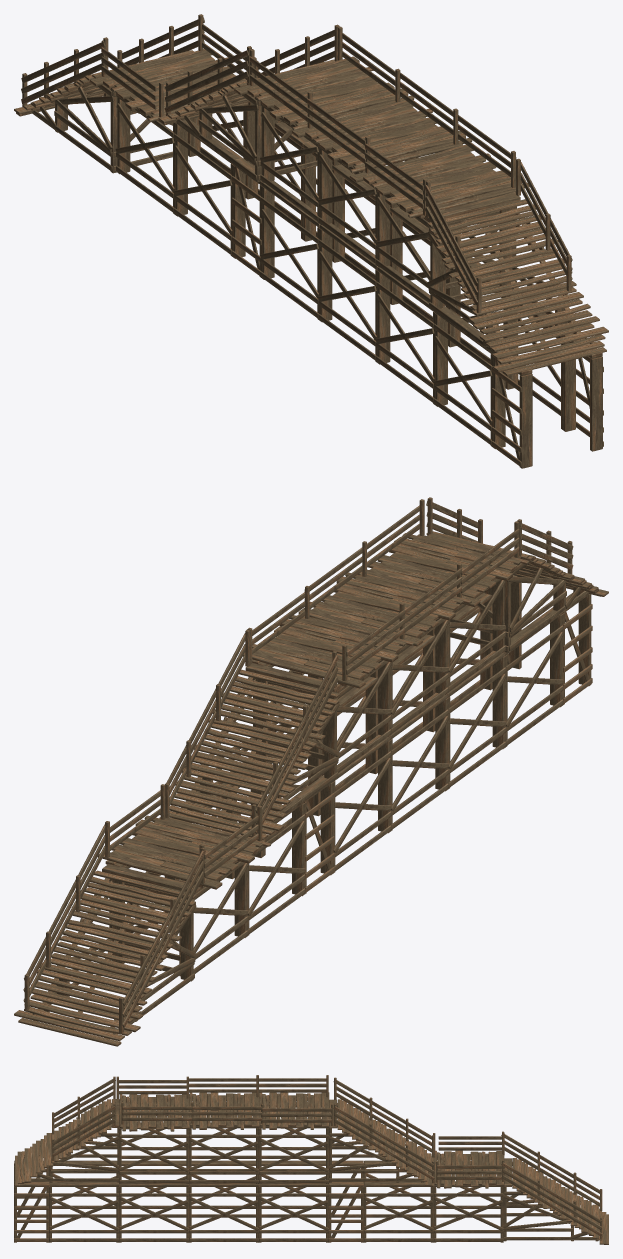
File: SM_Construction1.fbx
The picture shows the model from 3 angles, top to bottom: view 1: azimuth 30°, elevation 25°; view 2: azimuth 150°, elevation 25°; view 3: azimuth 270°, elevation 25°; orthographic projection. The views are drawn at different scales.
Parts seen in each view (by area): view 1: SM_Construction1_LOD0; view 2: SM_Construction1_LOD0; view 3: SM_Construction1_LOD0.
Part boxes in pixels (x1=…): SM_Construction1_LOD0: x1=14, y1=14, x2=608, y2=468; SM_Construction1_LOD0: x1=14, y1=497, x2=608, y2=1046; SM_Construction1_LOD0: x1=14, y1=1075, x2=608, y2=1244.
Size of the model in its own units: 504 by 3405 by 890.
Materials: 1 (1 with a texture image).
